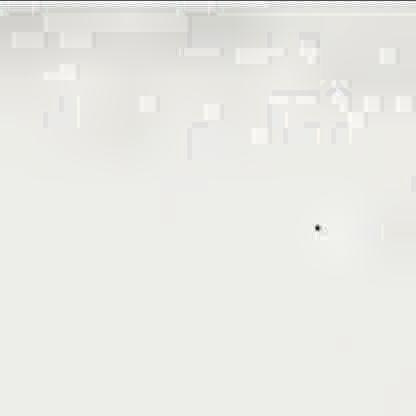golfball: (308, 218, 319, 229)
